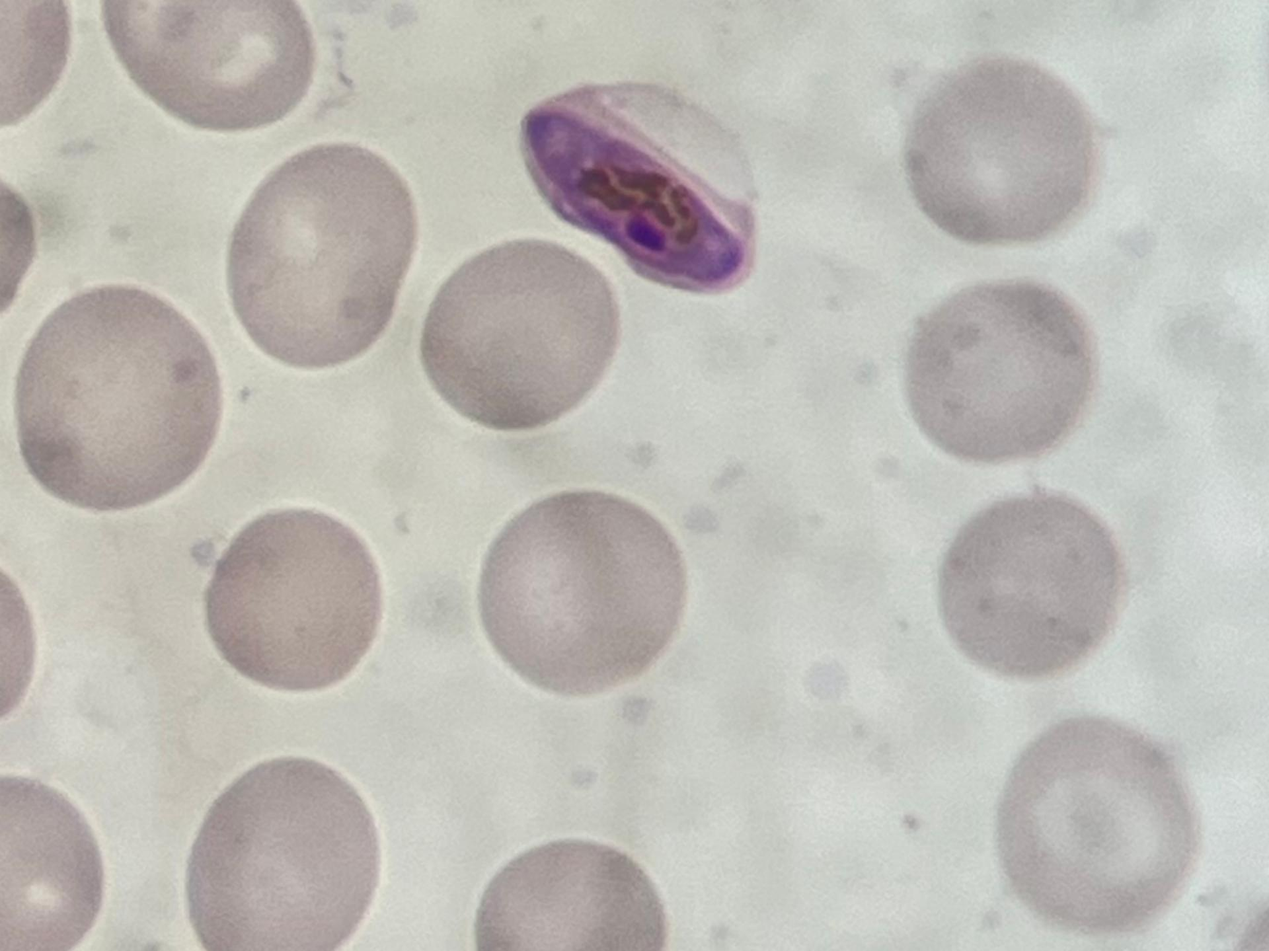Infected: (519, 80, 763, 295)
Uninfected: (15, 285, 221, 510), (479, 489, 686, 699), (228, 144, 416, 369), (998, 717, 1195, 931), (185, 755, 382, 951), (421, 237, 621, 430), (907, 53, 1104, 245), (905, 278, 1097, 459), (939, 496, 1124, 677), (205, 509, 381, 691), (97, 0, 316, 134), (474, 840, 665, 951)
